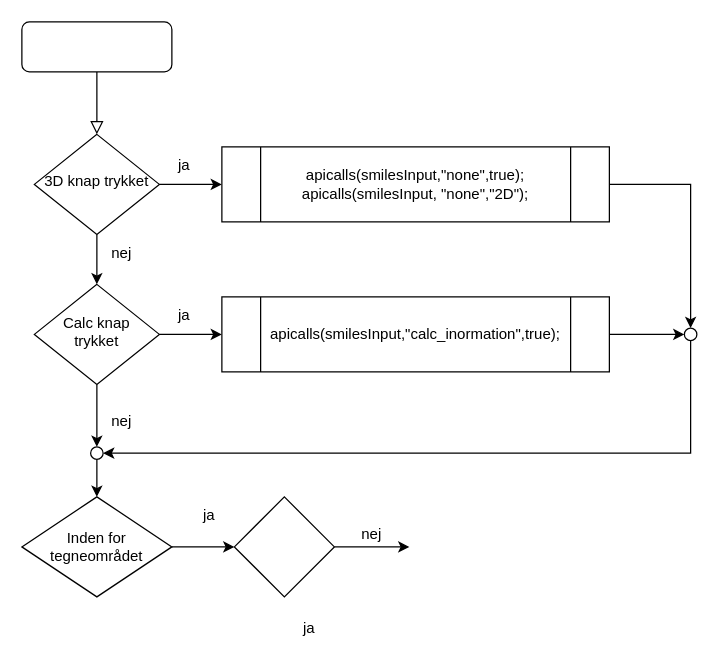
This 723x669 diagram has some shape labels left out. Each missing label, with the centre of its shape:
drawmode<3: (x=283, y=546)
Mussetryk: (x=96, y=46)
